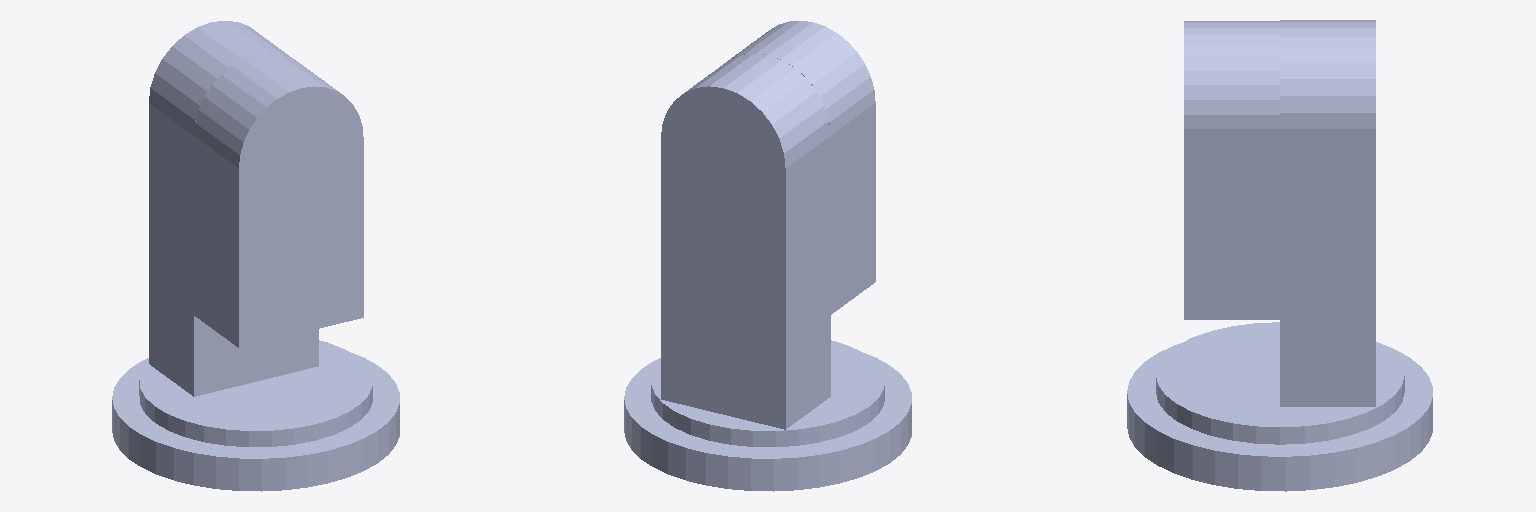
The robot description file, URDF, robot "manip":
<?xml version="1.0" encoding="utf-8"?>
<!-- This URDF was automatically created by SolidWorks to URDF Exporter! Originally created by [author] ([email redacted]) 
     Commit Version: 1.6.0-4-g7f85cfe  Build Version: 1.6.7995.38578
     For more information, please see http://wiki.ros.org/sw_urdf_exporter -->
<robot name="manip">

  <link name="world"/>
	<joint name="fixed" type="fixed">
		<parent link="world"/>
		<child link="base_link"/>
		
	</joint>
  <link name="base_link">
    <inertial>
      <origin
        xyz="7.5955E-15 4.0463E-17 0.01"
        rpy="0 0 0" />
      <mass
        value="3.1366" />
      <inertia
        ixx="0.0051231"
        ixy="1.3046E-29"
        ixz="3.7324E-15"
        iyy="0.0051231"
        iyz="1.7109E-17"
        izz="0.010037" />
    </inertial>
    <visual>
      <origin
        xyz="0 0 0"
        rpy="0 0 0" />
      <geometry>
        <mesh
          filename="package://manip/meshes/base_link.STL" />
      </geometry>
      <material
        name="">
        <color
          rgba="0.79216 0.81961 0.93333 1" />
      </material>
    </visual>
    <collision>
      <origin
        xyz="0 0 0"
        rpy="0 0 0" />
      <geometry>
        <mesh
          filename="package://manip/meshes/base_link.STL" />
      </geometry>
    </collision>
  </link>
  <link
    name="link_1">
    <inertial>
      <origin
        xyz="1.0128E-13 0.020714 0.11263"
        rpy="0 0 0" />
      <mass
        value="7.1545" />
      <inertia
        ixx="0.031384"
        ixy="-5.6746E-16"
        ixz="-1.9827E-14"
        iyy="0.032535"
        iyz="-0.0018984"
        izz="0.0071742" />
    </inertial>
    <visual>
      <origin
        xyz="0 0 0"
        rpy="0 0 0" />
      <geometry>
        <mesh
          filename="package://manip/meshes/link_1.STL" />
      </geometry>
      <material
        name="">
        <color
          rgba="0.79216 0.81961 0.93333 1" />
      </material>
    </visual>
    <collision>
      <origin
        xyz="0 0 0"
        rpy="0 0 0" />
      <geometry>
        <mesh
          filename="package://manip/meshes/link_1.STL" />
      </geometry>
    </collision>
  </link>
  <joint
    name="joint_1" type="revolute">
    <origin xyz="0 0 0" rpy="0 0 0" />
    <parent link="base_link" />
    <child link="link_1" />
    <axis xyz="0 0 1" />
    <limit lower="-3.14" upper="3.14" effort="500" velocity="0.1" />
  </joint>
  
  <transmission name="transmission_base_link_to_lin_1">
  	<type>transmission_interface/SimlpeTransmission</type> <!-- Простая редукторная передача - связывает один двигатель с одним интерфейсом -->
  	<joint name="joint_1"> <!-- Указываем сочленение, для которого мы используем эту трансмиссию -->
  		<hardwareInterface>hardware_interface/EffortJointInterface</hardwareInterface>
  	</joint>
  	<actuator name="motor_joint_1">
  		<hardwareInterface>hardware_interface/EffortJointInterface</hardwareInterface>
  		<mechanicalReduction>3</mechanicalReduction> <!-- Указываем передаточное число (не должно быть нулём) -->
  	</actuator>
  </transmission>
    
  
  <link name="link_2">
    <inertial>
      <origin xyz="-1.832E-16 -0.025603 -0.040355" rpy="0 0 0" />
      <mass value="4.2652" />
      <inertia
        ixx="0.0081437"
        ixy="8.9747E-18"
        ixz="-6.9217E-19"
        iyy="0.0094816"
        iyz="0.00010383"
        izz="0.0030776" />
    </inertial>
    <visual>
      <origin xyz="0 0 0" rpy="0 0 0" />
      <geometry>
        <mesh filename="package://manip/meshes/link_2.STL" />
      </geometry>
      <material name="">
        <color rgba="0.79216 0.81961 0.93333 1" />
      </material>
    </visual>
    <collision>
      <origin xyz="0 0 0" rpy="0 0 0" />
      <geometry>
        <mesh filename="package://manip/meshes/link_2.STL" />
      </geometry>
    </collision>
  </link>
  <joint name="joint_2" type="revolute">
    <origin xyz="0 0 0.19" rpy="0 0 0" />
    <parent link="link_1" />
    <child  link="link_2" />
    <axis xyz="0 1 0" />
    <limit lower="-3.14" upper="3.14" effort="100" velocity="0.1" />
  </joint>
  
  <transmission name="transmission_link_1_to_lin_2">
  	<type>transmission_interface/SimlpeTransmission</type>
  	<joint name="joint_2"> <!-- Указываем сочленение, для которого мы используем эту трансмиссию -->
  		<hardwareInterface>hardware_interface/EffortJointInterface</hardwareInterface>
  	</joint>
  	<actuator name="motor_joint_2">
  		<hardwareInterface>hardware_interface/EffortJointInterface</hardwareInterface>
  		<mechanicalReduction>3</mechanicalReduction>
  	</actuator>
  </transmission>
  
  <!-- Добавляем плагин Gazebo_ROS_Control -->
  <gazebo>
  	<plugin name="gazebo_ros_control" filename="libgazebo_ros_control.so">
  		<robotNamespace>manip</robotNamespace> <!-- В этом неймспейсе будут отображаться все наши ноды и контроллера -->
  	</plugin>
  </gazebo>
</robot>

--- What the picture shows (computed from the rendered views, not written in the file) ---
Views: 3 orthographic renders of the robot side by side, from view 1: azimuth 30°, elevation 25°; view 2: azimuth 150°, elevation 25°; view 3: azimuth 270°, elevation 25°.
Model manip with 4 links and 3 joints (2 revolute, 1 fixed), rooted at world, posed every joint at zero.
Links seen in each view (by area): view 1: link_2, link_1, base_link; view 2: link_1, base_link, link_2; view 3: link_1, link_2, base_link.
Link boxes in pixels (x1,y1,x2,y2): link_2: (194,53,363,347); link_1: (139,21,372,446); base_link: (112,351,399,491); link_1: (651,53,884,446); base_link: (624,353,911,491); link_2: (728,21,875,314); link_1: (1156,20,1404,444); link_2: (1184,21,1279,319); base_link: (1127,343,1432,491).
Size in the robot's own frame: 0.1599 by 0.1597 by 0.23 metres.
Meshes: 3 distinct files referenced, 3 mesh visuals loaded (3 binary STL).
